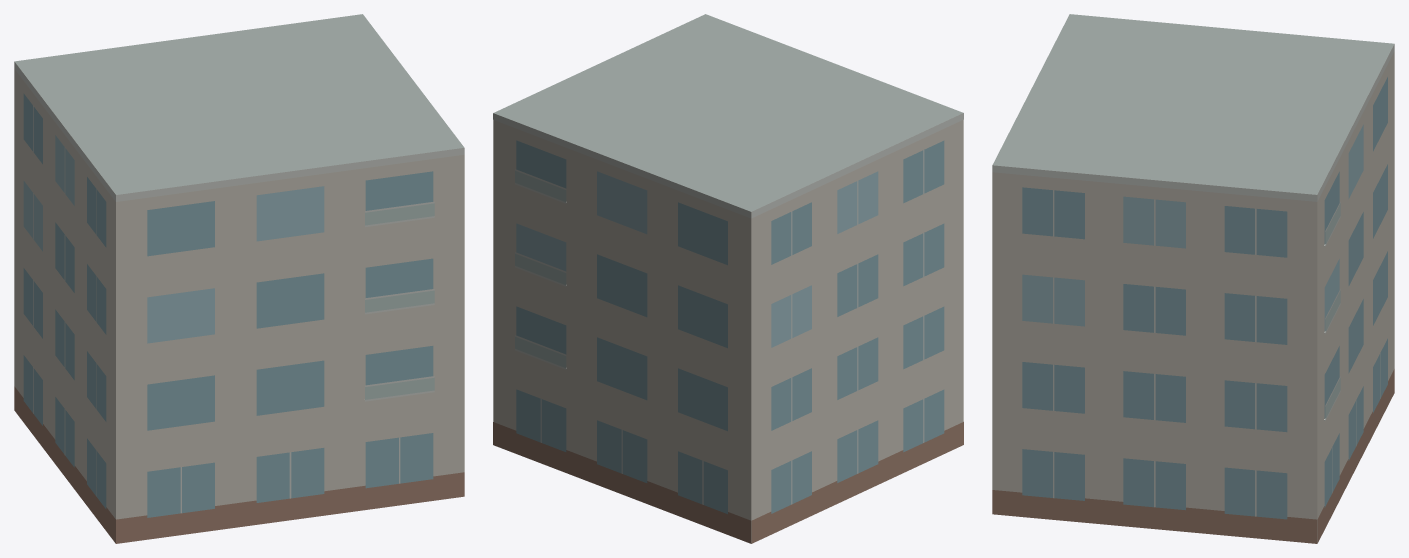
Rendered from residential-4357f5d4-f3db-4e35-bd12-0be9be8117e6.glb.
The picture shows the model from 3 angles, left to right: view 1: azimuth 30°, elevation 25°; view 2: azimuth 150°, elevation 25°; view 3: azimuth 270°, elevation 25°; orthographic projection. The views are drawn at different scales.
Parts seen in each view (by area): view 1: residential-4357f5d4-f3db-4e35-bd12-0be9be8117e6.tmp; view 2: residential-4357f5d4-f3db-4e35-bd12-0be9be8117e6.tmp; view 3: residential-4357f5d4-f3db-4e35-bd12-0be9be8117e6.tmp.
Part boxes in pixels (left/top/right/bottom): residential-4357f5d4-f3db-4e35-bd12-0be9be8117e6.tmp: left=14, top=14, right=464, bottom=543; residential-4357f5d4-f3db-4e35-bd12-0be9be8117e6.tmp: left=493, top=14, right=963, bottom=543; residential-4357f5d4-f3db-4e35-bd12-0be9be8117e6.tmp: left=992, top=14, right=1394, bottom=543.
Bounding box in the file's own units: 13.58 × 12.2 × 12.76.
